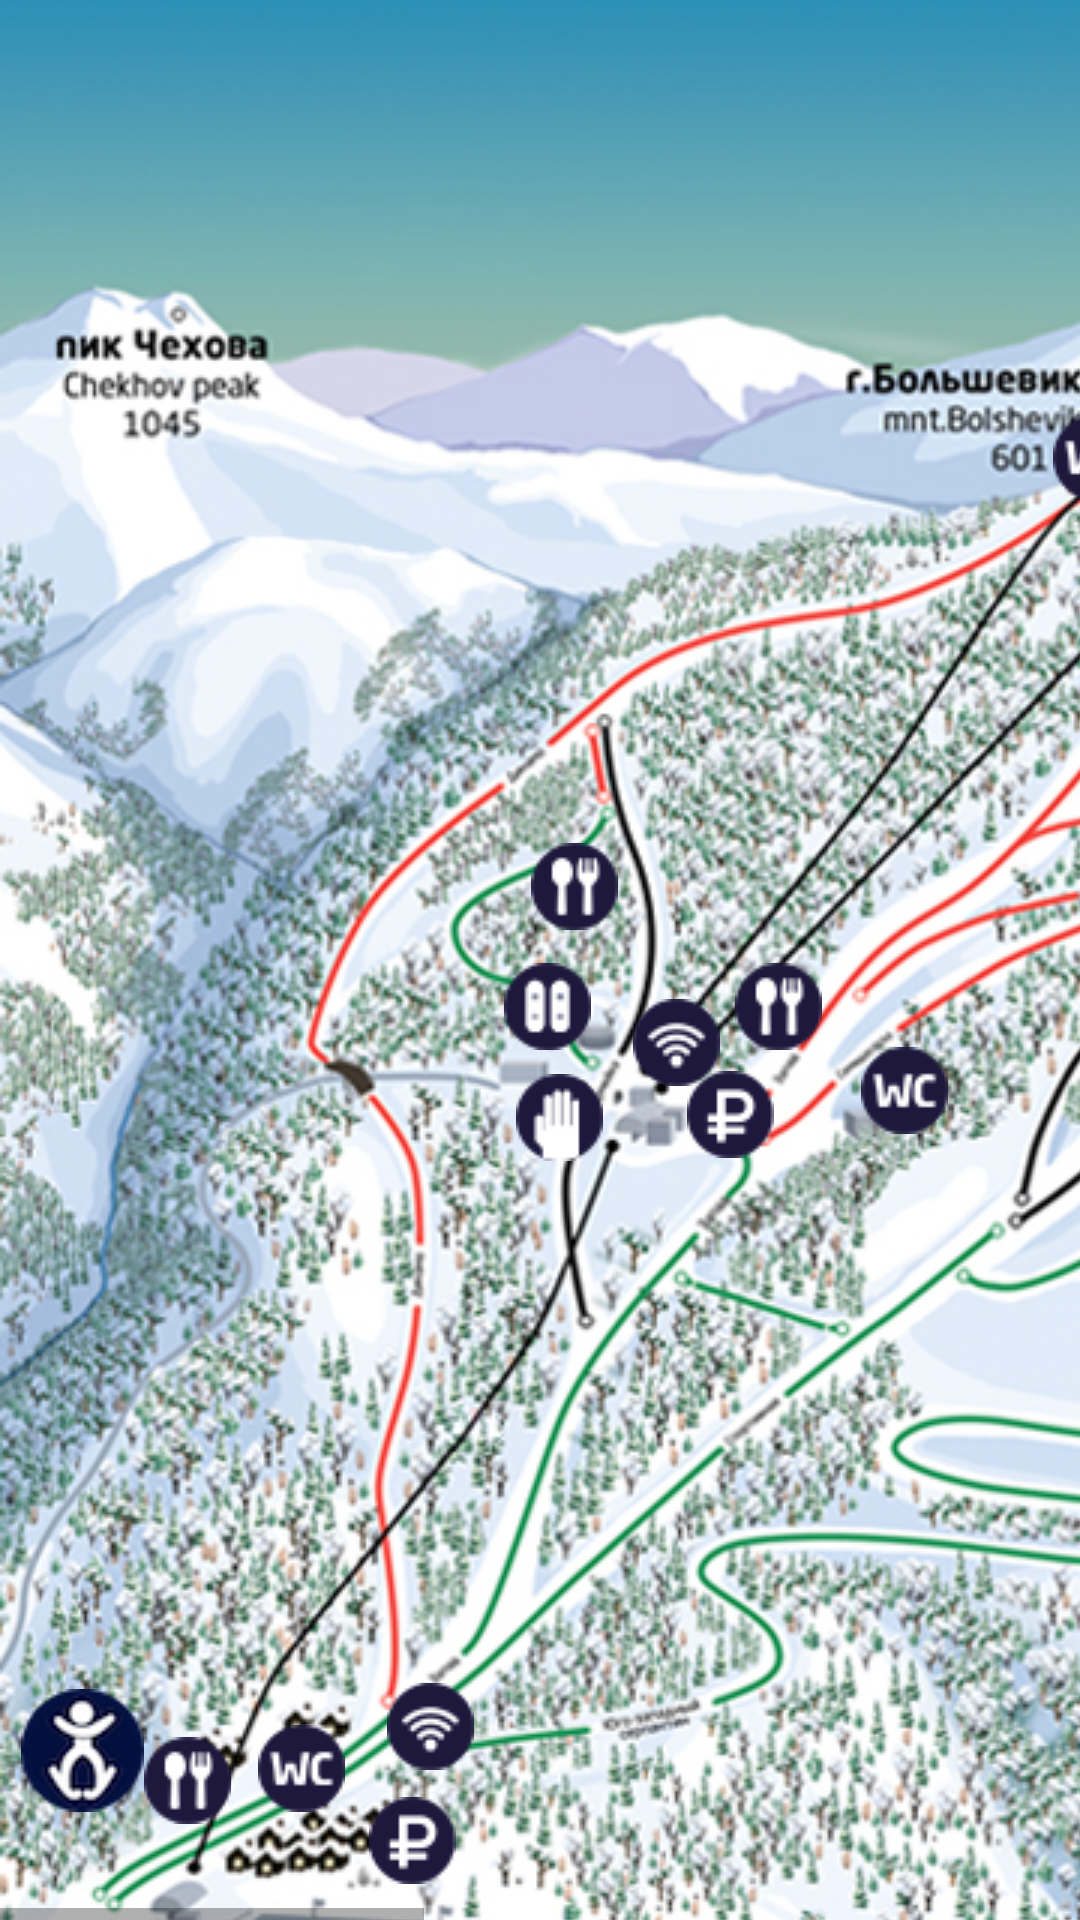

Screen size 1080px x 1920px. Icon name, then its center in pixels as point (x, y):
babypark: point (82, 1750)
cafe: point (574, 886), point (778, 1006), point (187, 1780)
rent: point (547, 1006)
wifi: point (676, 1042), point (430, 1726)
